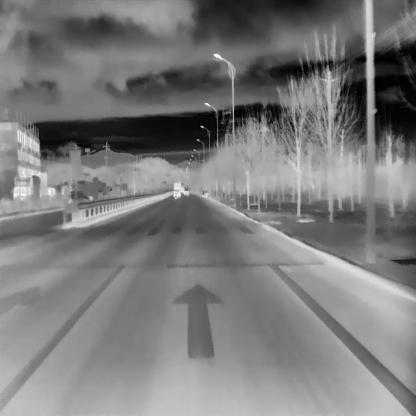car: (173, 188, 181, 198), (184, 188, 188, 195)
truck: (173, 181, 180, 191)
